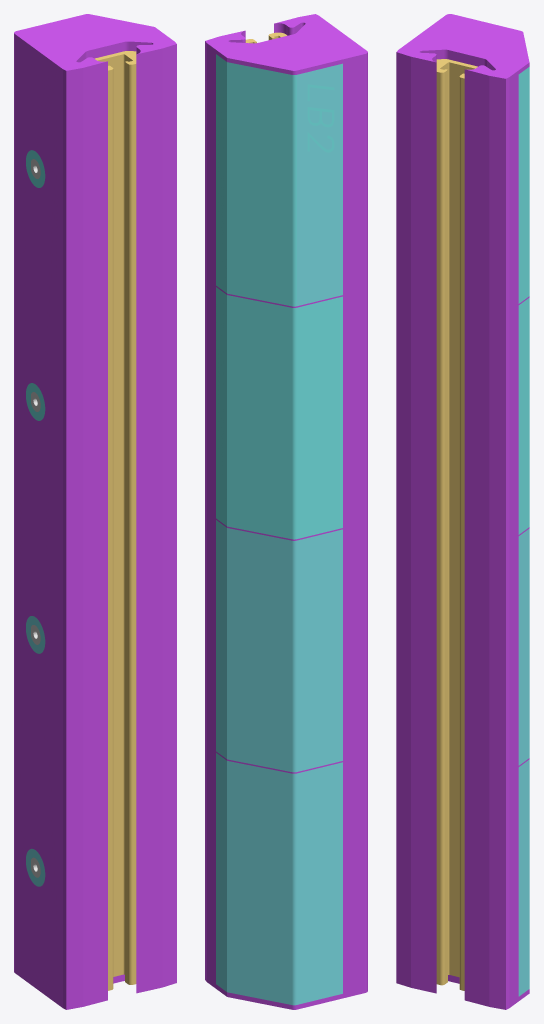
The model's file is product_w9_5724_9_b.glb.
3 views of the same model, side by side, from view 1: azimuth 30°, elevation 25°; view 2: azimuth 210°, elevation 25°; view 3: azimuth 330°, elevation 25° (orthographic).
Visible parts, largest first — view 1: Node1, Node4, Node6, Node2, Node3, Node5; view 2: Node2, Node3, Node1, Node4; view 3: Node1, Node6, Node4, Node2, Node3.
Part boxes in pixels (x1,y1,x2,y2): Node1: (14,14,176,1009); Node4: (14,34,176,1007); Node6: (94,51,136,990); Node2: (26,616,45,886); Node3: (26,150,45,420); Node5: (31,159,40,877); Node2: (216,63,342,1005); Node3: (216,54,342,539); Node1: (205,14,367,1009); Node4: (227,23,300,1009); Node1: (396,14,529,1009); Node6: (436,59,477,990); Node4: (422,49,505,1009); Node2: (518,528,529,996); Node3: (518,67,529,534).
Size of the model in its own units: 0.25 by 2 by 0.21.
